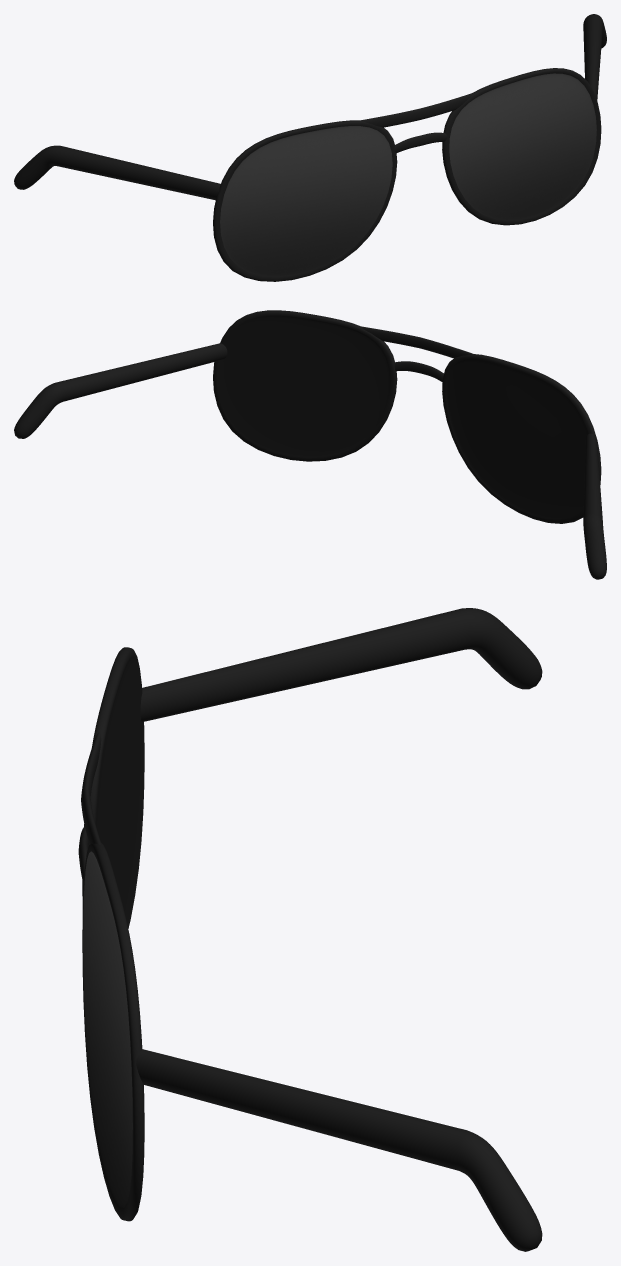
File: niko_sunglasses.glb
3 views of the same model, one above another, from view 1: azimuth 30°, elevation 25°; view 2: azimuth 150°, elevation 25°; view 3: azimuth 270°, elevation 25° (orthographic). The views are drawn at different scales.
Visible parts, largest first — view 1: Sunglasses; view 2: Sunglasses; view 3: Sunglasses.
Part boxes in pixels (box(x1,y1,x2,y2)): Sunglasses: box(14, 14, 606, 281); Sunglasses: box(14, 310, 606, 579); Sunglasses: box(78, 608, 542, 1251).
Size of the model in its own units: 0.8154 by 0.1971 by 0.2773.
Materials: 1 (1 with a texture image).
